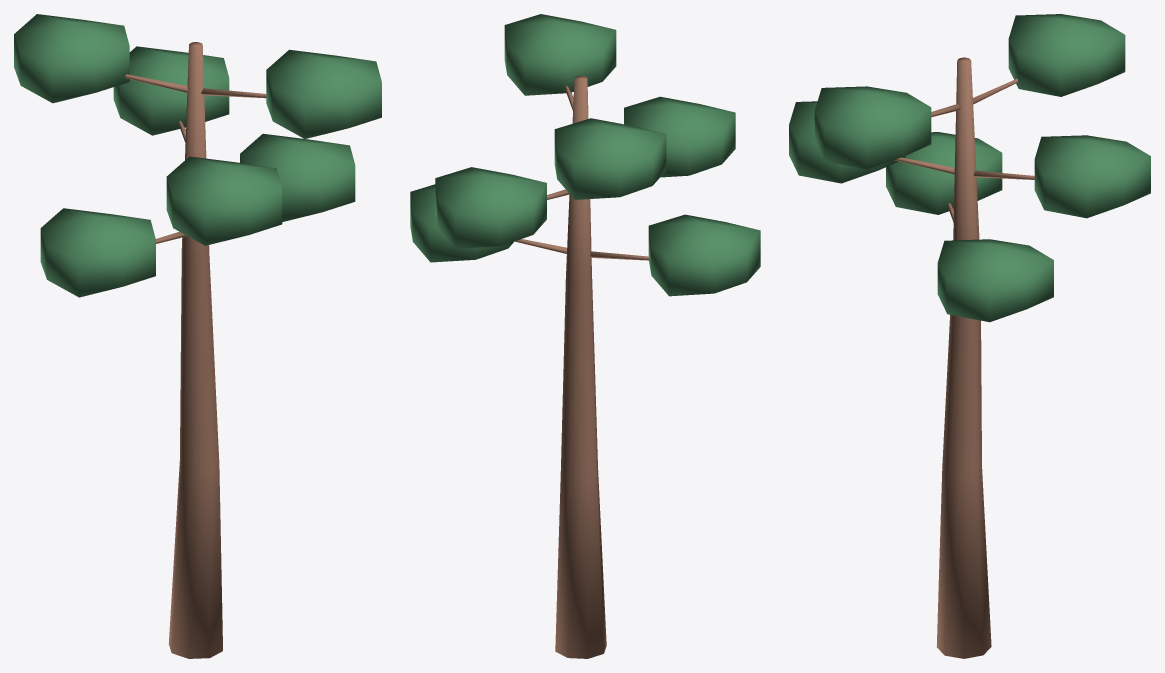
File: canopy_sugar_pine.glb
3 views of the same model, side by side, from view 1: azimuth 30°, elevation 25°; view 2: azimuth 150°, elevation 25°; view 3: azimuth 270°, elevation 25° (orthographic). The views are drawn at different scales.
Visible parts, largest first — view 1: Flora_Sugar_Pine; view 2: Flora_Sugar_Pine; view 3: Flora_Sugar_Pine.
Part boxes in pixels (bbox=[...]): Flora_Sugar_Pine: bbox=[14, 14, 381, 658]; Flora_Sugar_Pine: bbox=[410, 14, 760, 658]; Flora_Sugar_Pine: bbox=[789, 14, 1150, 658].
Bounding box in the file's own units: 7.43 × 13.11 × 7.27.
